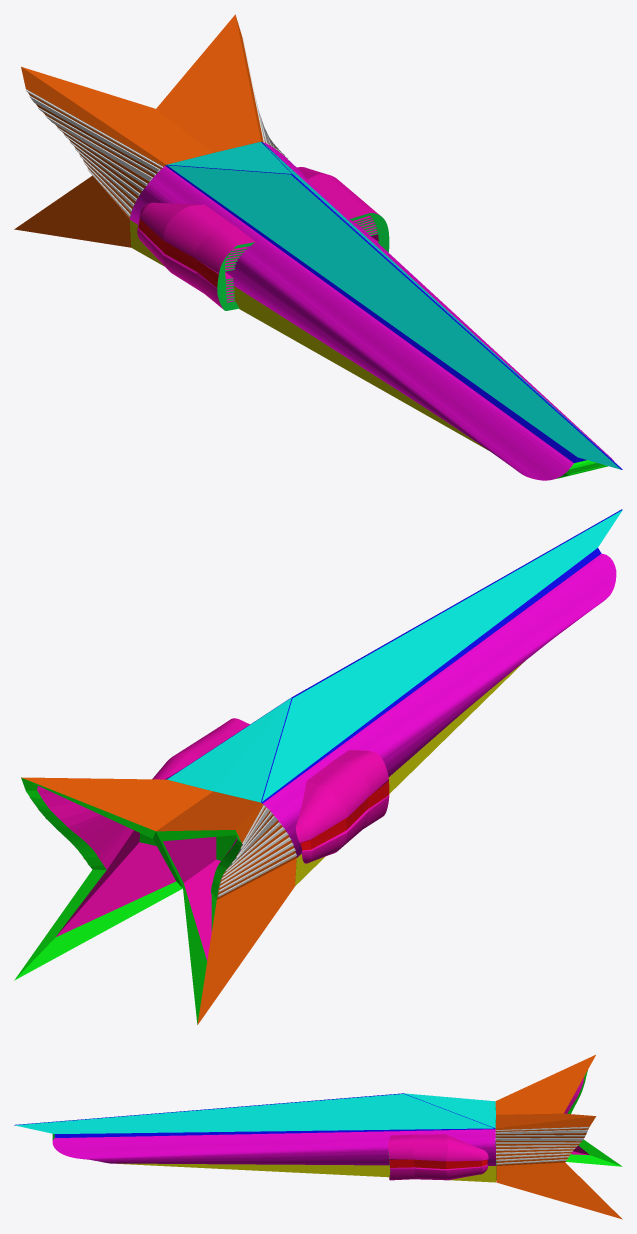
Rendered from vega.glb.
3 views of the same model, one above another, from view 1: azimuth 30°, elevation 25°; view 2: azimuth 150°, elevation 25°; view 3: azimuth 270°, elevation 25° (orthographic). The views are drawn at different scales.
Parts seen in each view (by area): view 1: Hull, Thrusters, Cube; view 2: Hull, Thrusters, Cube; view 3: Hull, Thrusters, Cube.
Part boxes in pixels (left/top/right/bottom): Hull: left=130, top=142, right=622, bottom=480; Thrusters: left=14, top=14, right=288, bottom=247; Cube: left=137, top=167, right=389, bottom=310; Hull: left=139, top=509, right=622, bottom=885; Thrusters: left=14, top=777, right=296, bottom=1024; Cube: left=152, top=718, right=389, bottom=863; Hull: left=14, top=1093, right=495, bottom=1182; Thrusters: left=495, top=1055, right=622, bottom=1219; Cube: left=388, top=1134, right=488, bottom=1180.
Size of the model in its own units: 3.52 by 2.83 by 14.48.
